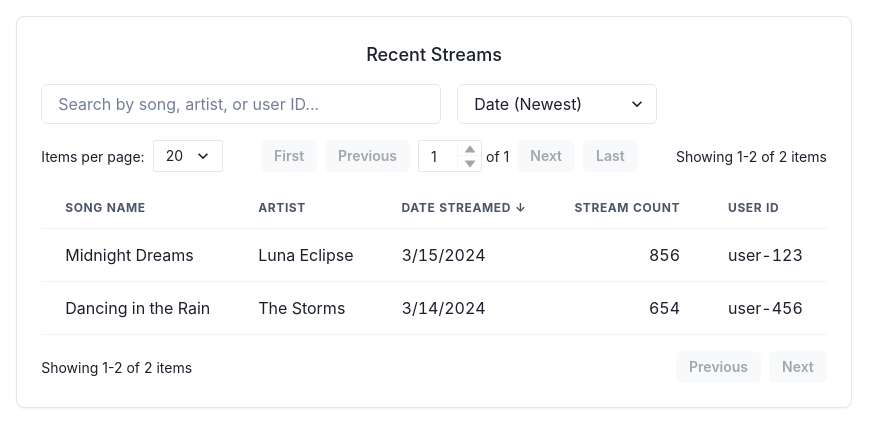
StreamsTable › handles search functionality
Check: the text "Midnight Dreams" is shown, box [41,228,234,282]
// Search for "Luna"
Type "Luna" into the field with placeholder "Search by song, artist, or user ID...". click: (241, 104)
box: [41,84,441,124]
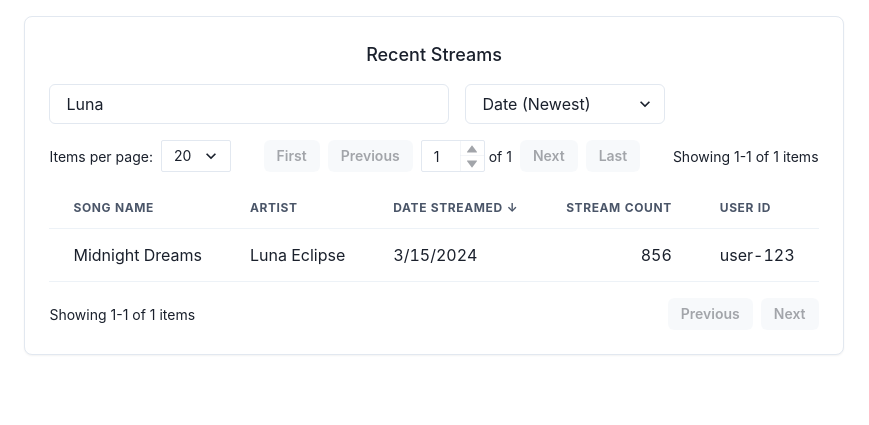
Check: the text "Luna Eclipse" is shown, box [226,228,369,282]
Check: the text "The Storms" is gone
